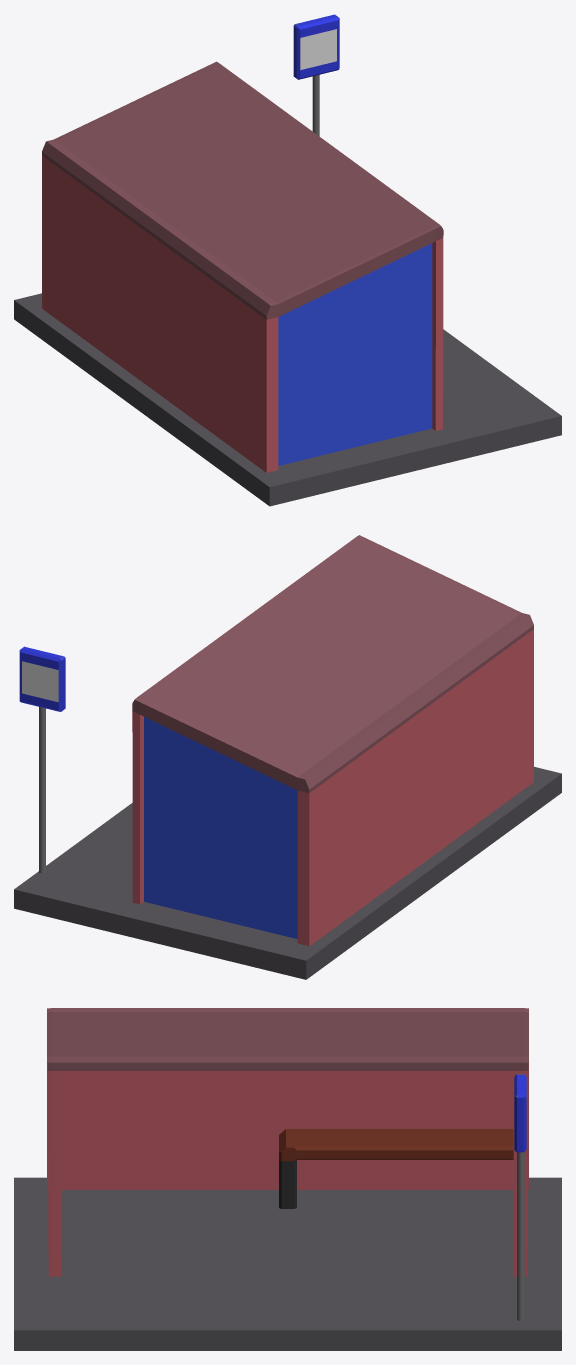
The model's file is Station.fbx.
3 views of the same model, one above another, from view 1: azimuth 30°, elevation 25°; view 2: azimuth 150°, elevation 25°; view 3: azimuth 270°, elevation 25° (orthographic). The views are drawn at different scales.
Visible parts, largest first — view 1: House, Foundation, Sign; view 2: House, Foundation, Sign; view 3: Foundation, House, Bench, Sign.
Part boxes in pixels (box(x1,y1,x2,y2)): House: box(42, 61, 443, 472); Foundation: box(14, 293, 561, 506); Sign: box(293, 14, 339, 136); House: box(132, 535, 533, 946); Foundation: box(14, 767, 561, 979); Sign: box(19, 646, 65, 873); Foundation: box(14, 1177, 561, 1350); House: box(47, 1008, 528, 1276); Bench: box(279, 1129, 513, 1208); Sign: box(514, 1074, 526, 1320).
Bounding box in the file's own units: 463 × 355 × 674.
